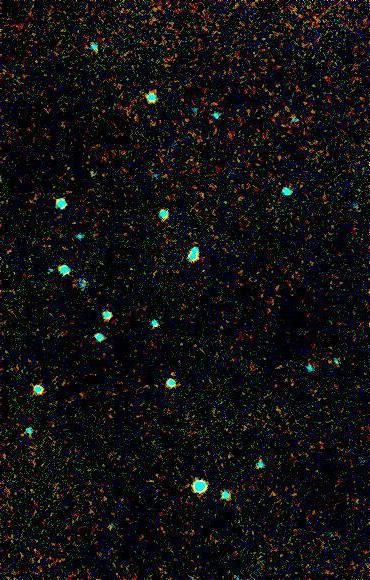star: (159, 356, 189, 386)
